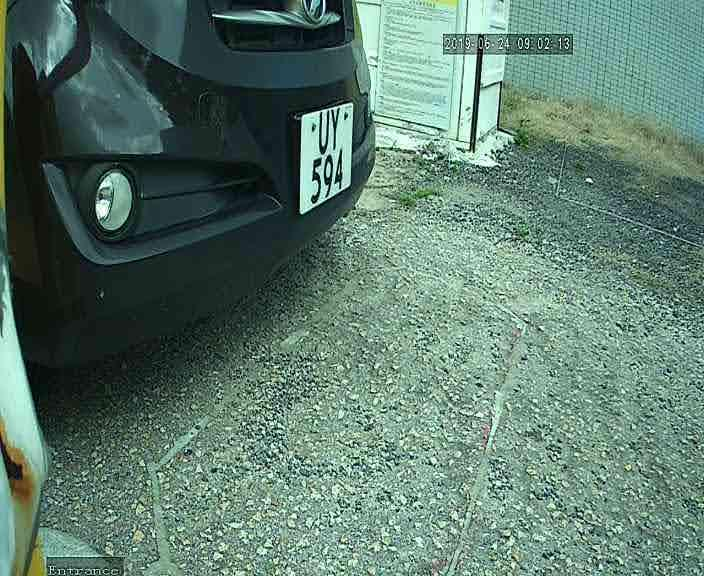privatecar: (1, 2, 402, 370)
